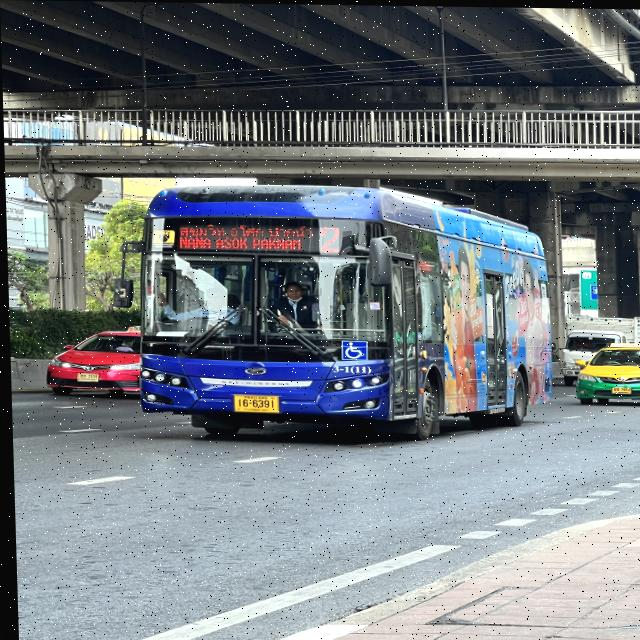Bus-Line-Number: (313, 221, 346, 257)
Destination-Sign-Normal: (174, 221, 314, 254)
TSB-Bus: (131, 176, 555, 442)
